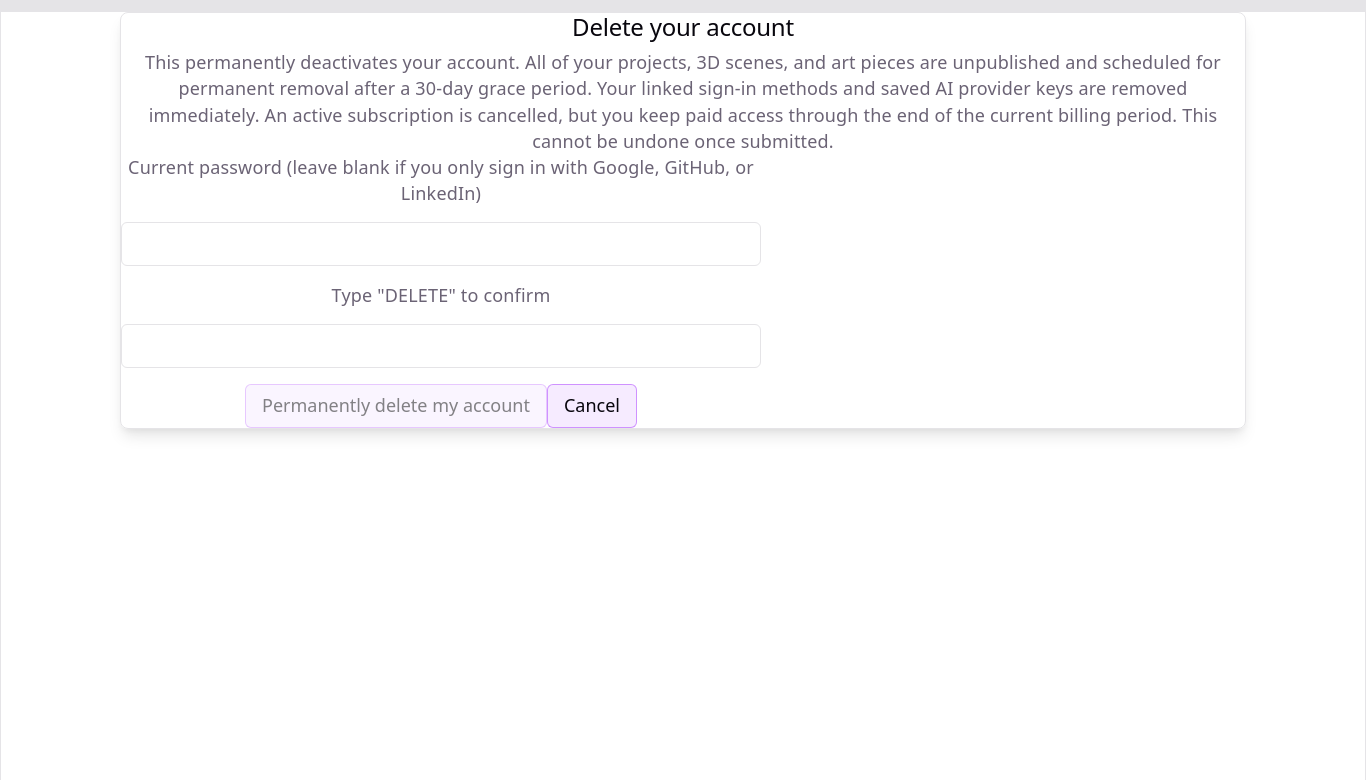
Test case: AccountDeletion › shows a confirmation-mismatch error distinctly from a reauthentication error
Type "DELETE" into the field labelled "Type \"DELETE\" to confirm".
click(441, 346); type("DELETE")  # box [121, 324, 761, 368]
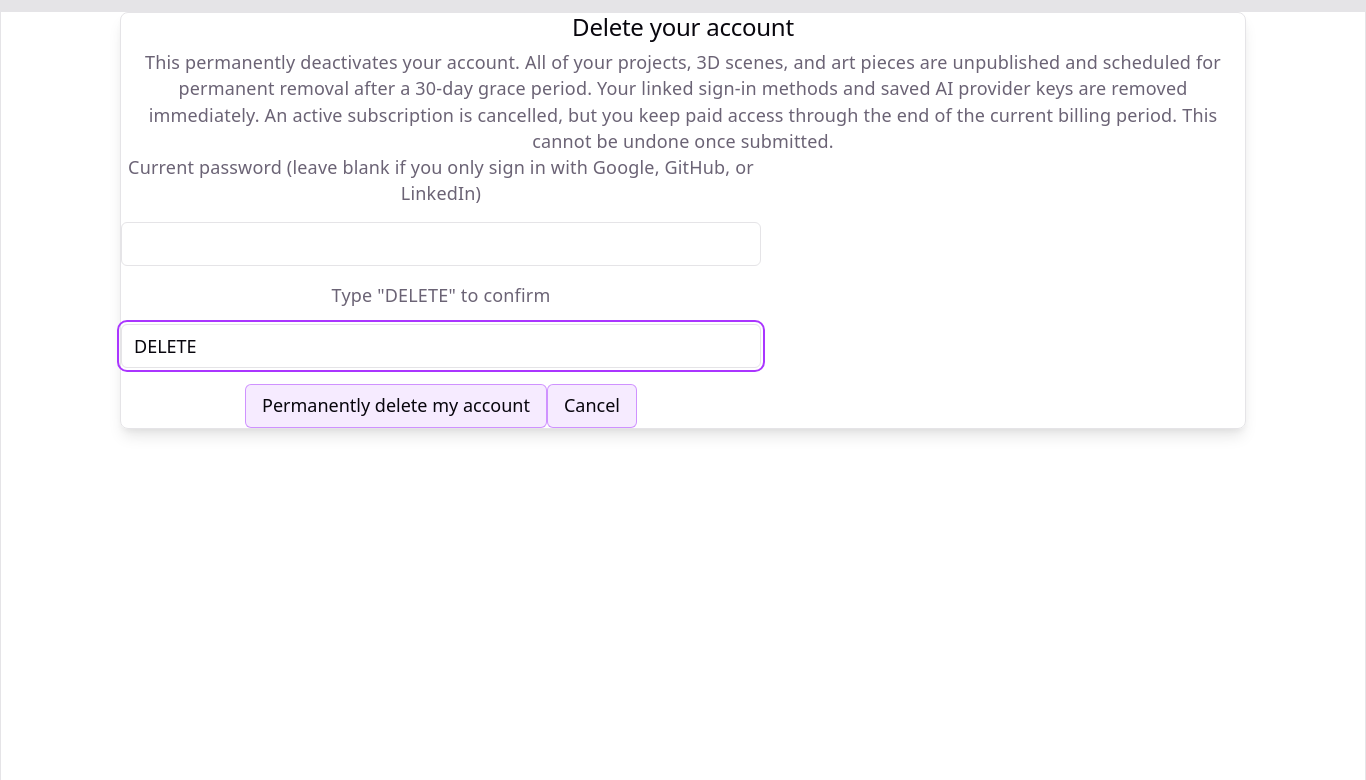
Click the button with test id "account-deletion-submit".
click(396, 406)  # box [245, 384, 547, 428]
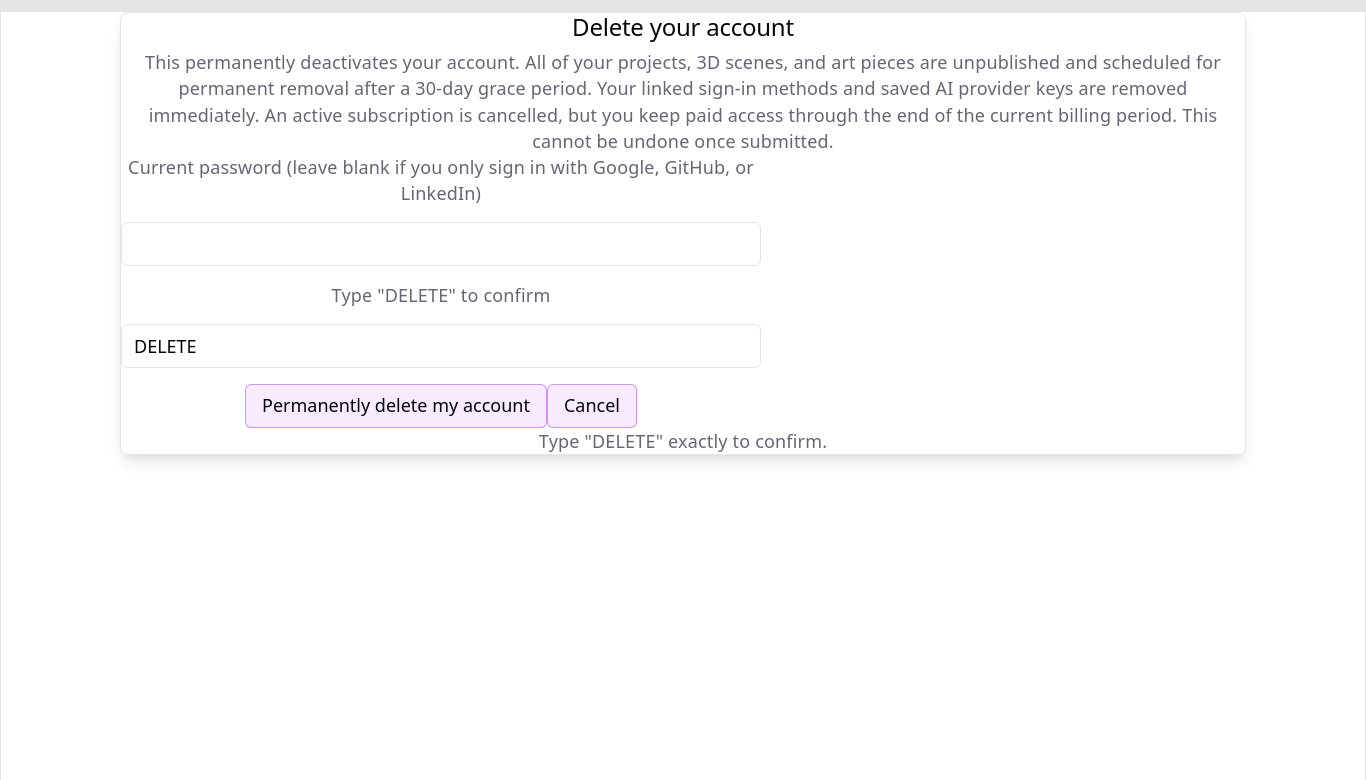
Result: the message with test id "account-deletion-error" shows "Type \"DELETE\"" at [539, 429, 827, 453]
